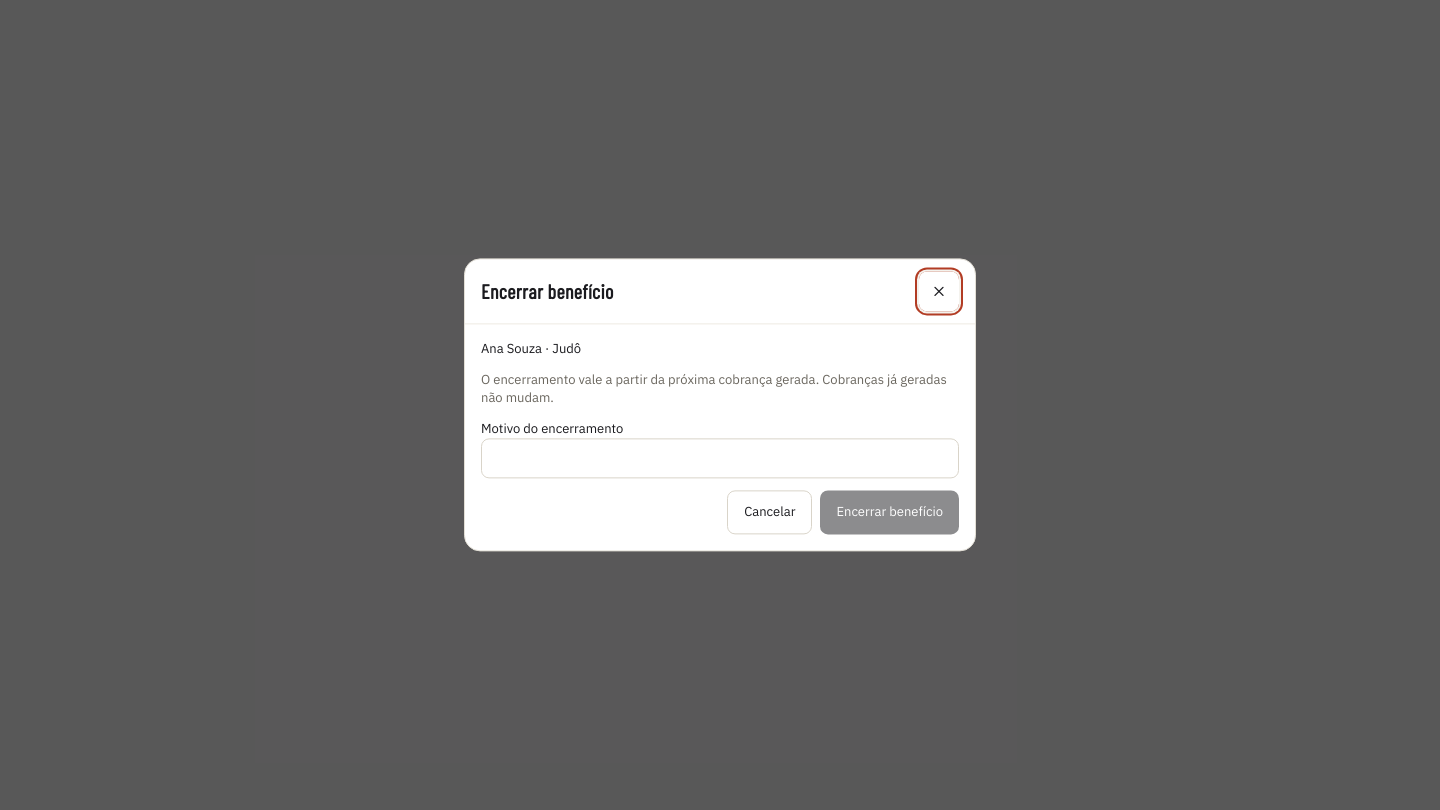
janela Encerrar benefício (RF-BEN-03, CA10, CA11) › mostra o erro do servidor no campo e não fecha
The image size is (1440, 810).
Type "Mudou de cidade" into the field labelled "Motivo do encerramento".
click(720, 459); type("Mudou de cidade")  # box [481, 439, 959, 479]
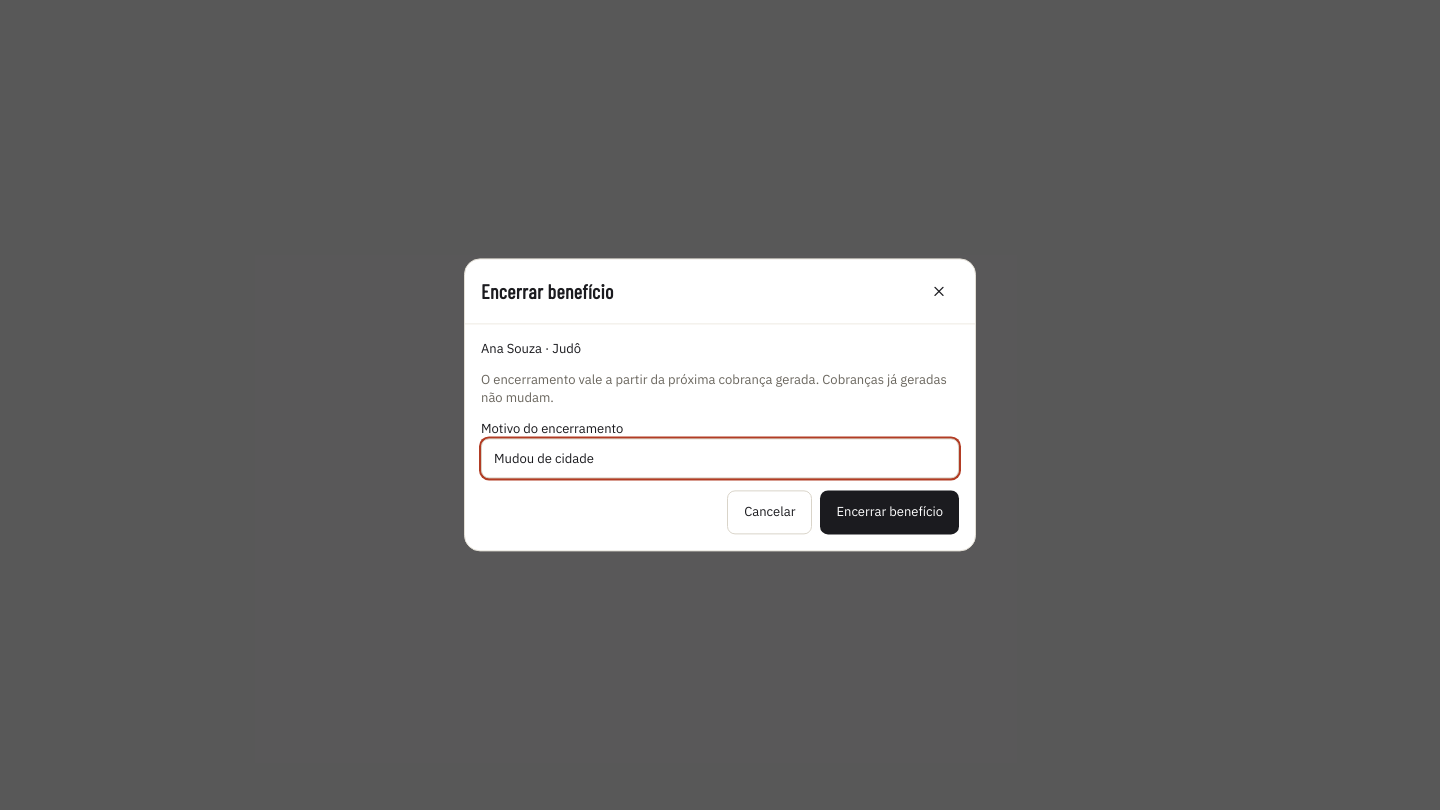
Click the button "Encerrar benefício".
click(890, 513)  # box [820, 491, 959, 535]
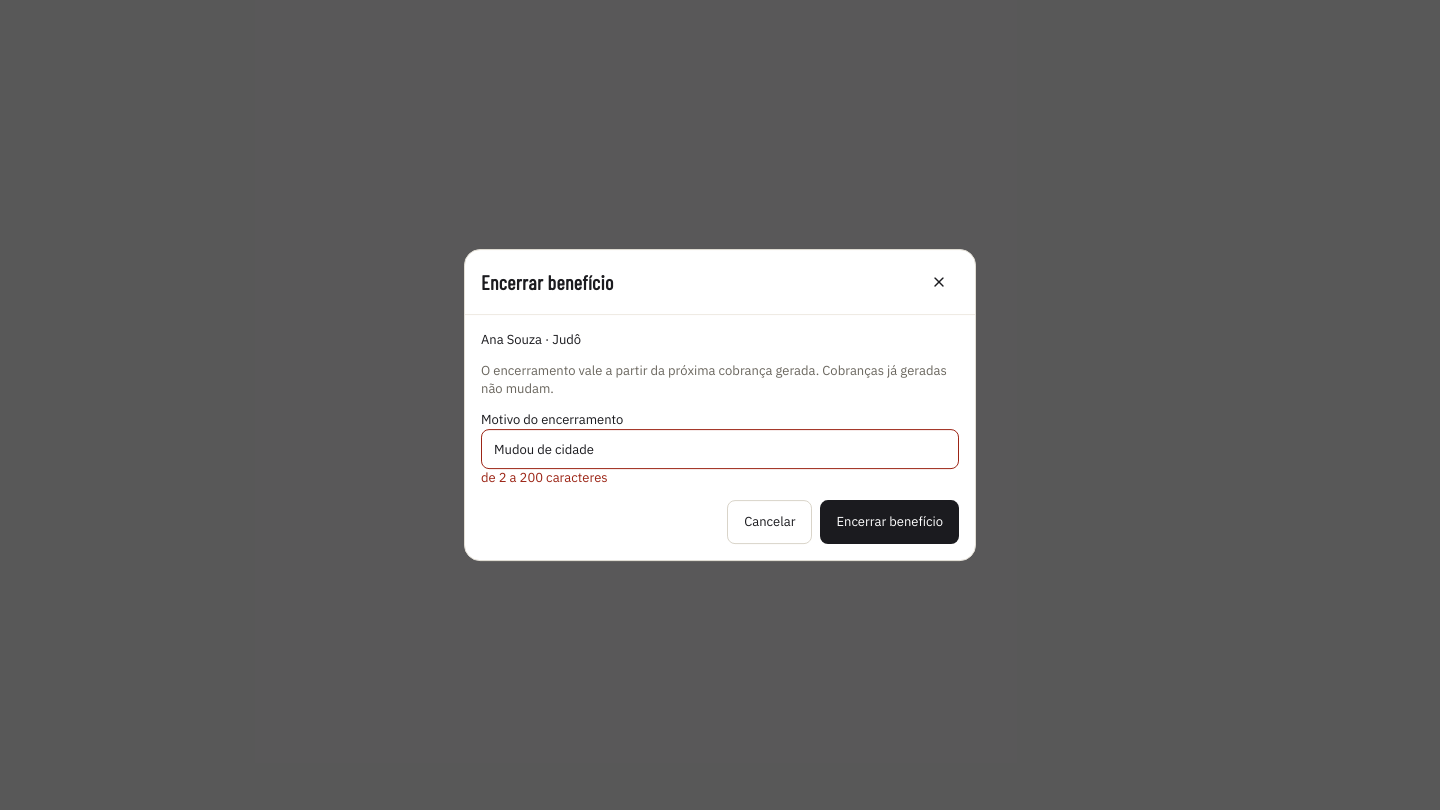
Expected: the text "de 2 a 200 caracteres" is shown, [481, 469, 608, 486]
